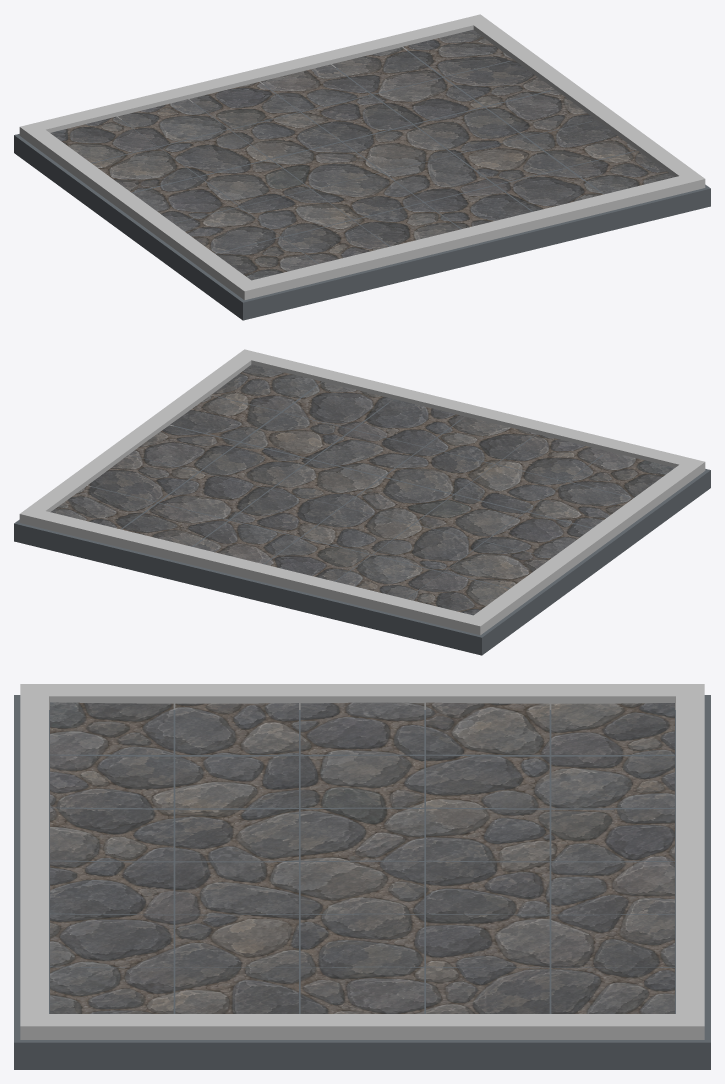
The model's file is SM_ART005_BoardCobbleAtlasB_v1.fbx.
3 renders of one model, top to bottom at view 1: azimuth 30°, elevation 25°; view 2: azimuth 150°, elevation 25°; view 3: azimuth 270°, elevation 25°, orthographic. The views are drawn at different scales.
Parts seen in each view (by area): view 1: Rock_Undertray.001, Frame_West.001, Frame_East.001, Frame_North.001, Frame_South.001, StoneTile_4_4.001, StoneTile_4_3.001, StoneTile_1_4.001, StoneTile_4_2.001, StoneTile_4_1.001, StoneTile_1_3.001, StoneTile_2_3.001 (+23 smaller); view 2: Rock_Undertray.001, Frame_East.001, Frame_West.001, Frame_North.001, Frame_South.001, StoneTile_0_4.001, StoneTile_0_3.001, StoneTile_0_2.001, StoneTile_3_4.001, StoneTile_0_1.001, StoneTile_3_2.001, StoneTile_3_3.001 (+23 smaller); view 3: Rock_Undertray.001, Frame_South.001, Frame_North.001, Frame_East.001, Frame_West.001, StoneTile_2_1.001, StoneTile_2_2.001, StoneTile_2_3.001, StoneTile_1_1.001, StoneTile_3_1.001, StoneTile_4_1.001, StoneTile_0_1.001 (+23 smaller).
Boxes of the visible parts, x1,y1,x2,y2 form: Rock_Undertray.001: (14,50,710,320); Frame_West.001: (235,172,705,300); Frame_East.001: (19,14,489,142); Frame_North.001: (29,129,250,292); Frame_South.001: (473,21,695,176); StoneTile_4_4.001: (118,99,227,146); StoneTile_4_3.001: (189,82,299,129); StoneTile_1_4.001: (241,189,351,236); StoneTile_4_2.001: (261,64,370,111); StoneTile_4_1.001: (332,47,441,93); StoneTile_1_3.001: (313,172,422,219); StoneTile_2_3.001: (271,142,381,189); Rock_Undertray.001: (14,385,710,655); Frame_East.001: (19,507,489,635); Frame_West.001: (235,349,705,477); Frame_North.001: (474,464,695,627); Frame_South.001: (29,356,251,511); StoneTile_0_4.001: (496,434,606,481); StoneTile_0_3.001: (425,416,535,464); StoneTile_0_2.001: (354,399,463,446); StoneTile_3_4.001: (373,524,483,571); StoneTile_0_1.001: (283,382,392,428); StoneTile_3_2.001: (230,490,340,536); StoneTile_3_3.001: (302,507,411,554); Rock_Undertray.001: (14,695,710,1069); Frame_South.001: (49,1014,675,1039); Frame_North.001: (49,684,675,709); Frame_East.001: (676,684,704,1039); Frame_West.001: (20,684,48,1039); StoneTile_2_1.001: (300,914,424,967); StoneTile_2_2.001: (300,861,424,914); StoneTile_2_3.001: (300,808,424,861); StoneTile_1_1.001: (175,914,298,967); StoneTile_3_1.001: (426,914,549,967); StoneTile_4_1.001: (551,914,674,967); StoneTile_0_1.001: (50,914,173,967).
Size of the model in its own units: 656 by 556 by 36.
